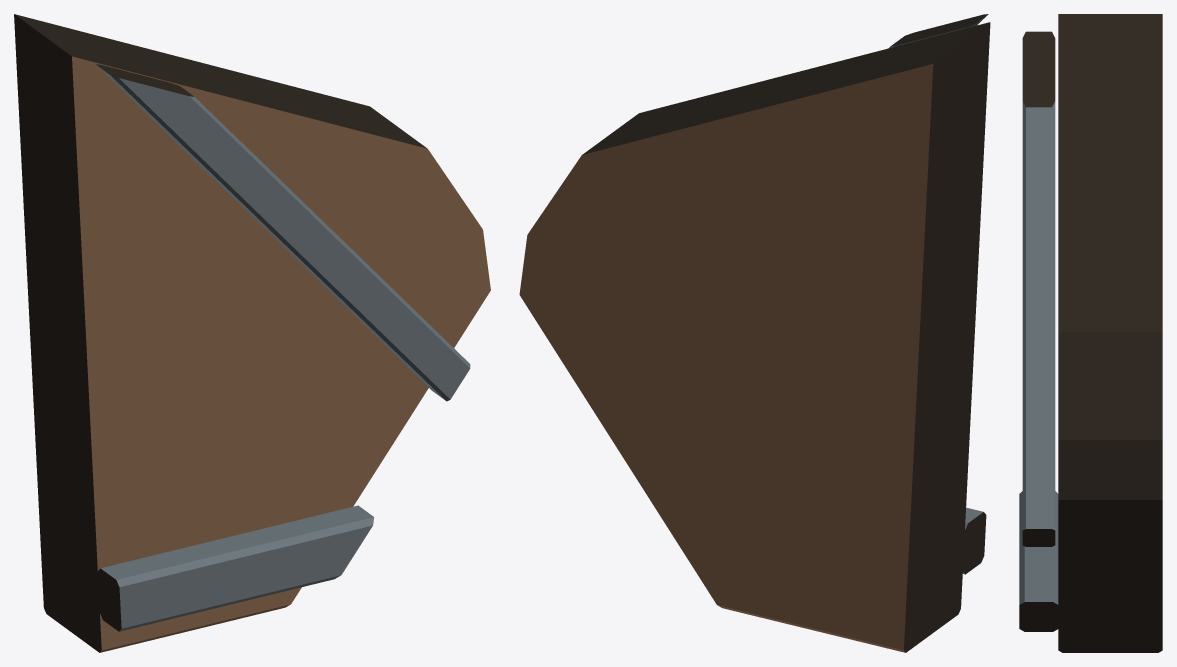
The model's file is SM_DoorShard_03_46.fbx.
3 views of the same model, side by side, from view 1: azimuth 30°, elevation 25°; view 2: azimuth 150°, elevation 25°; view 3: azimuth 270°, elevation 25° (orthographic). The views are drawn at different scales.
Visible parts, largest first — view 1: SM_DoorShard_03_46; view 2: SM_DoorShard_03_46; view 3: SM_DoorShard_03_46.
Boxes of the visible parts, left/top/right/bottom form: SM_DoorShard_03_46: left=14, top=14, right=490, bottom=652; SM_DoorShard_03_46: left=519, top=14, right=990, bottom=652; SM_DoorShard_03_46: left=1019, top=14, right=1162, bottom=652.
Bounding box in the file's own units: 66.84 × 22 × 92.31.
